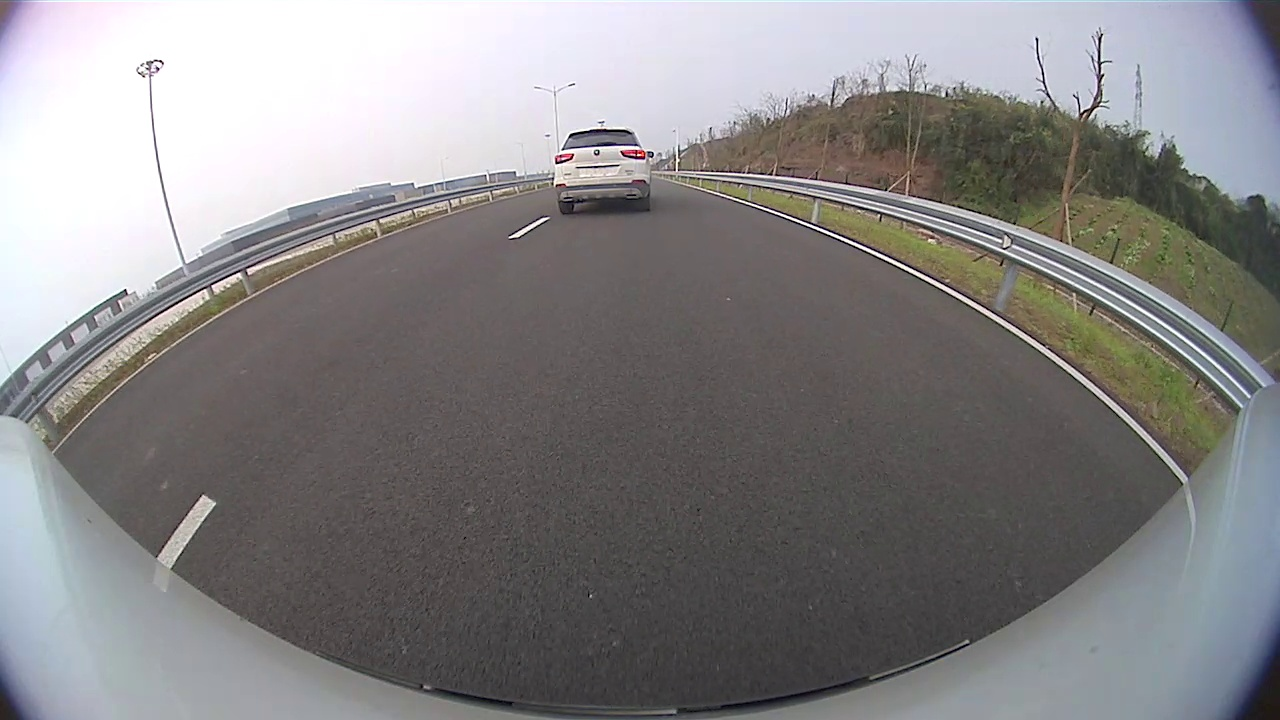car: (554, 126, 655, 215)
